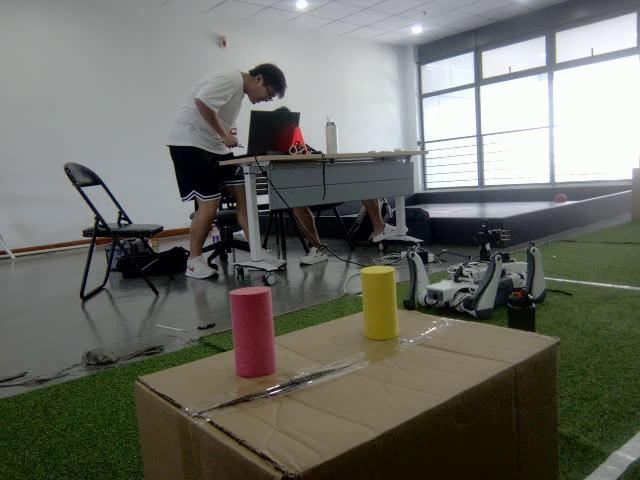red_cylinder: (225, 283, 278, 379)
yellow_cylinder: (357, 261, 404, 344)
